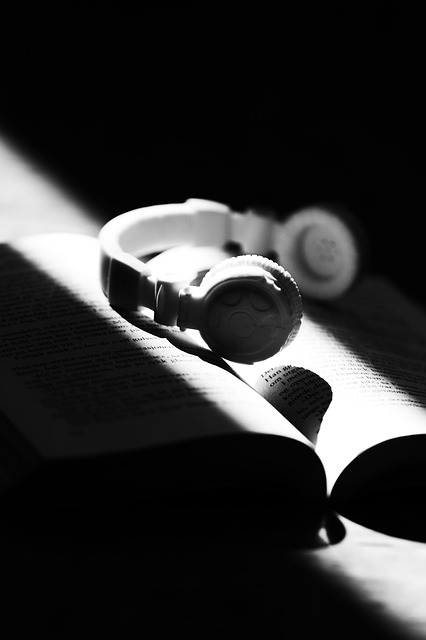headphones: (99, 200, 355, 366)
